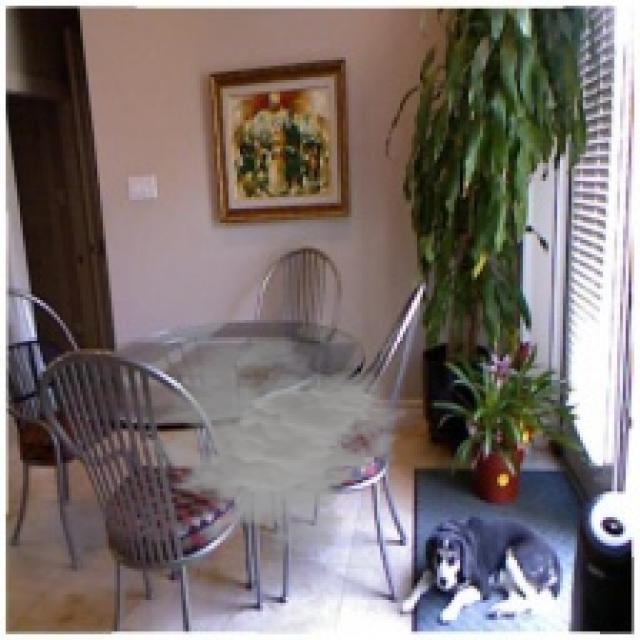Smoke: (128, 340, 412, 554)
